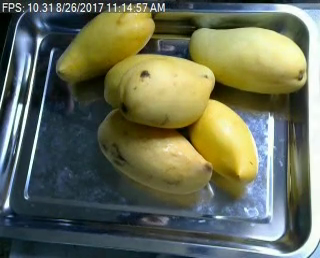Mango: (97, 108, 211, 192), (58, 3, 154, 83), (190, 27, 308, 92), (179, 99, 259, 183), (119, 59, 210, 126), (105, 53, 215, 102)
